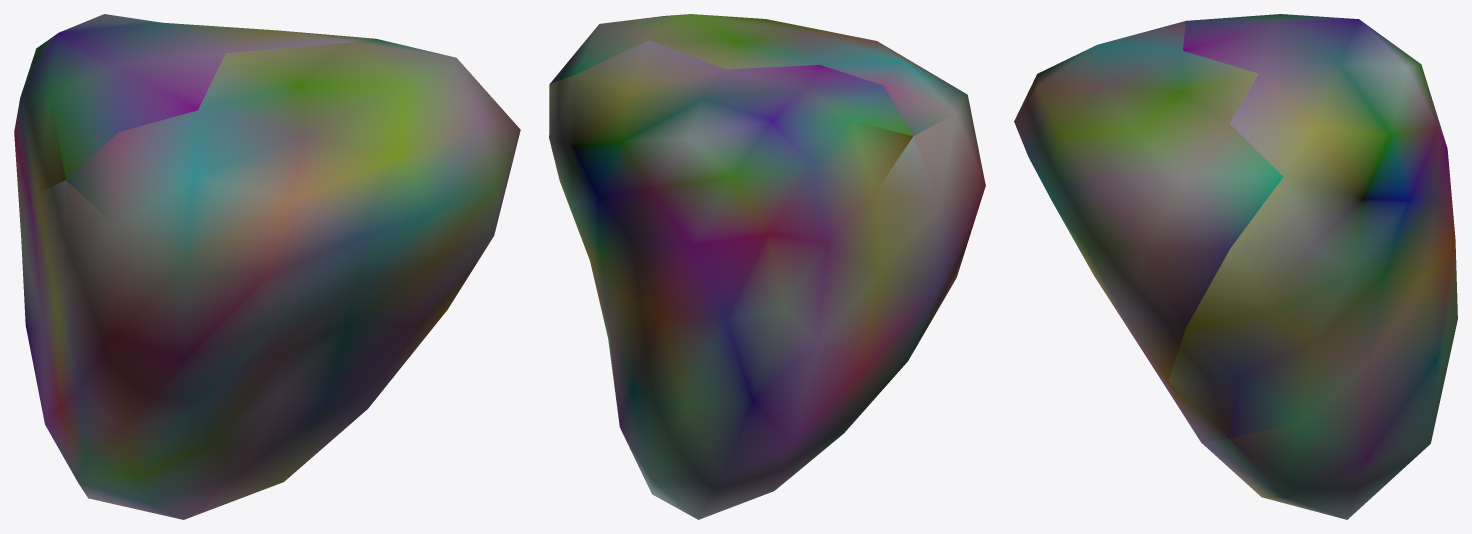
The model's file is ASE_Proj_Remote_Explosive.gltf.
3 renders of one model, left to right at view 1: azimuth 30°, elevation 25°; view 2: azimuth 150°, elevation 25°; view 3: azimuth 270°, elevation 25°, orthographic. The views are drawn at different scales.
Visible parts, largest first — view 1: ASE_Proj_Remote_Explosive; view 2: ASE_Proj_Remote_Explosive; view 3: ASE_Proj_Remote_Explosive.
Boxes of the visible parts, left/top/right/bottom form: ASE_Proj_Remote_Explosive: left=14, top=14, right=520, bottom=519; ASE_Proj_Remote_Explosive: left=549, top=14, right=985, bottom=519; ASE_Proj_Remote_Explosive: left=1014, top=14, right=1457, bottom=519.
Size of the model in its own units: 0.0206 by 0.0217 by 0.02.
